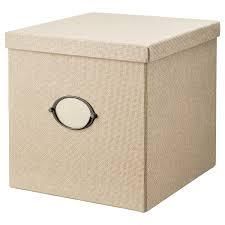cube: (6, 11, 218, 214)
